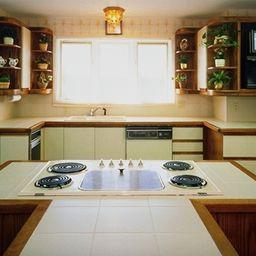Electrodomestico: (18, 160, 223, 199)
